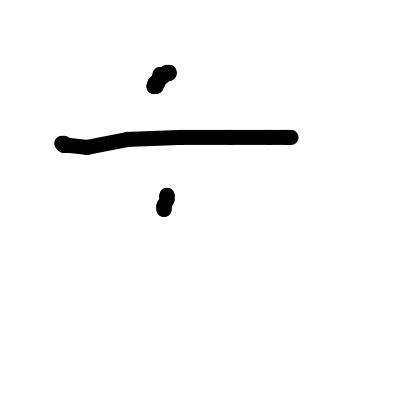div: (54, 63, 299, 218)
